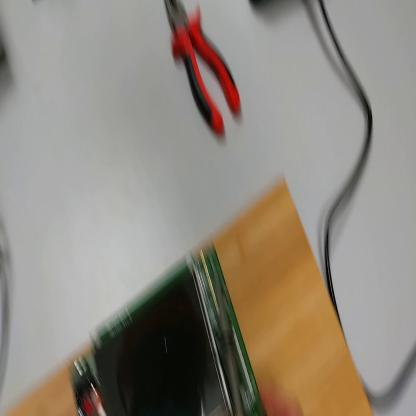hand: (262, 370, 304, 415)
low voltage board: (71, 239, 266, 416)
oscilloscope probe tip: (212, 257, 247, 415)
pliers: (165, 2, 244, 140)
working area: (2, 178, 373, 415)
